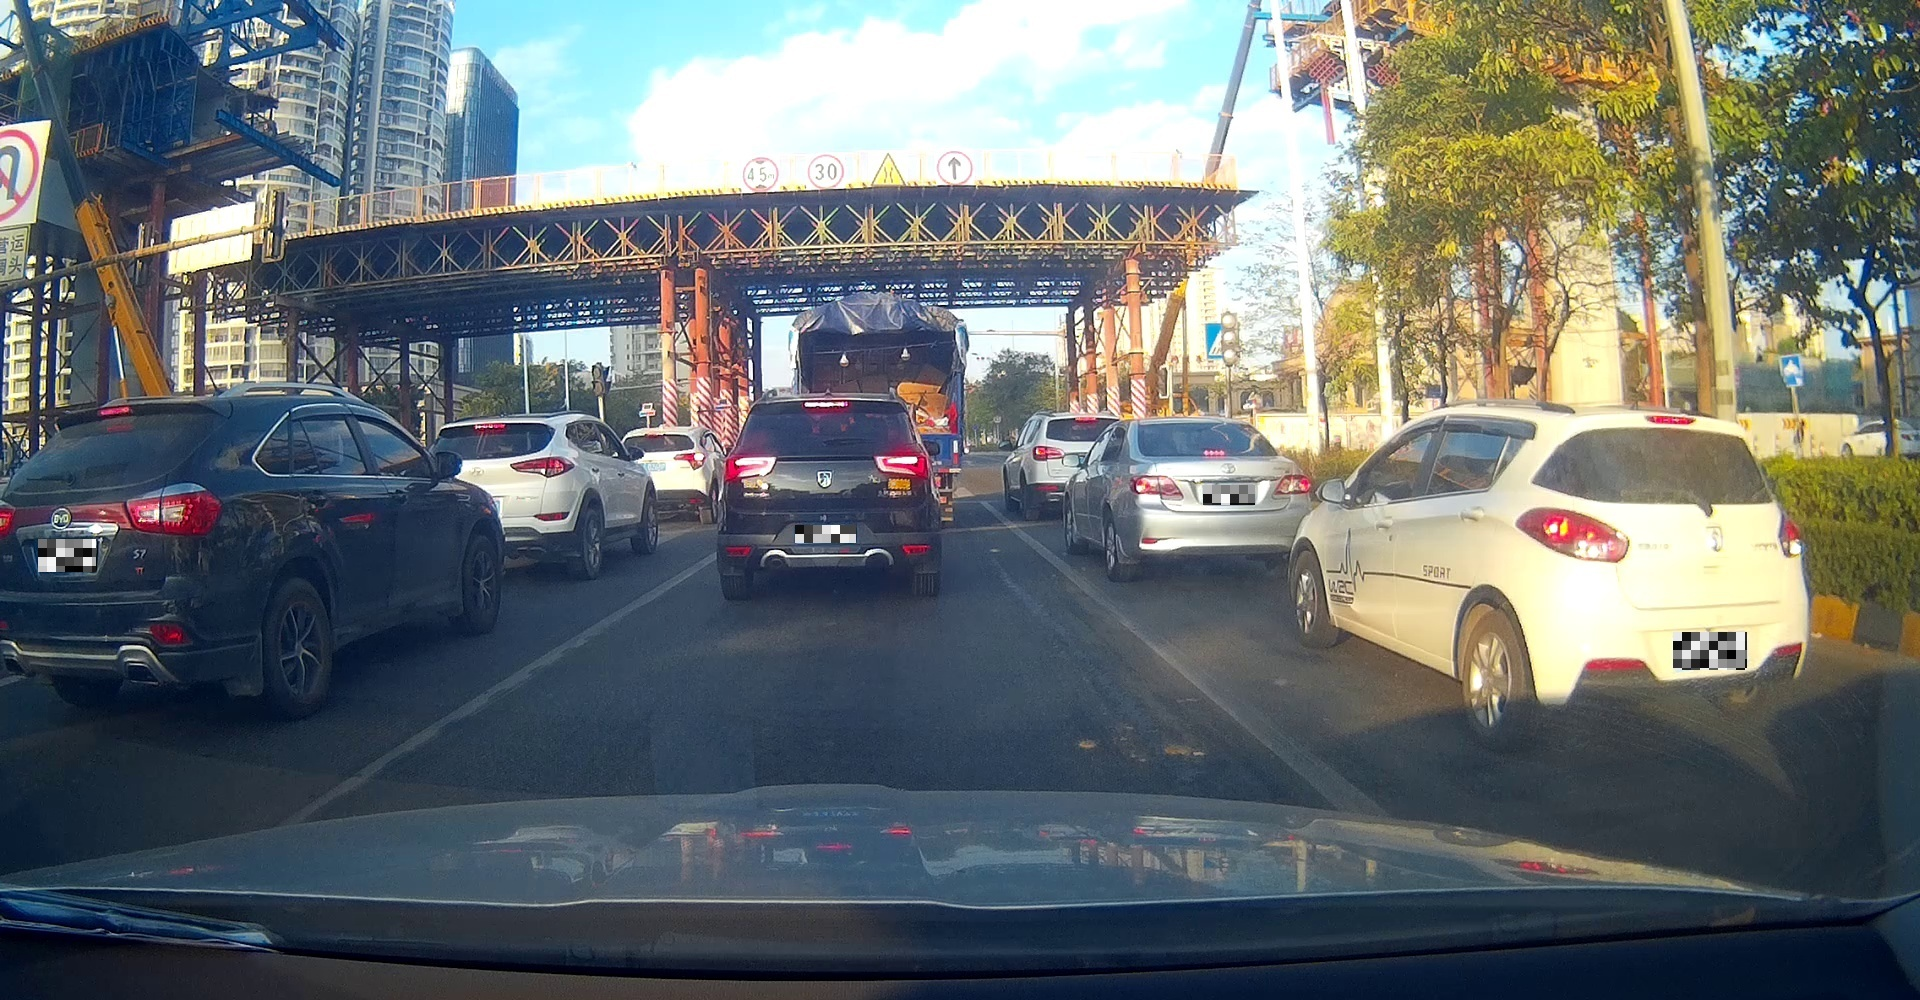L_light: (1512, 506, 1630, 562), (724, 453, 777, 481), (1131, 475, 1183, 500), (0, 506, 14, 536)
R_light: (126, 482, 223, 537), (872, 448, 931, 478), (1777, 511, 1803, 558), (1274, 473, 1310, 495)
T_light: (1646, 415, 1695, 426), (97, 405, 130, 416), (804, 401, 847, 409), (1203, 451, 1225, 456)
day-brake: (1507, 411, 1810, 749), (0, 397, 227, 727), (717, 392, 941, 600), (1130, 418, 1312, 582)
plate_1: (38, 539, 97, 572)
plate_2: (795, 525, 856, 543)
plate_3: (1203, 485, 1255, 505)
plate_4: (1672, 632, 1747, 670)
